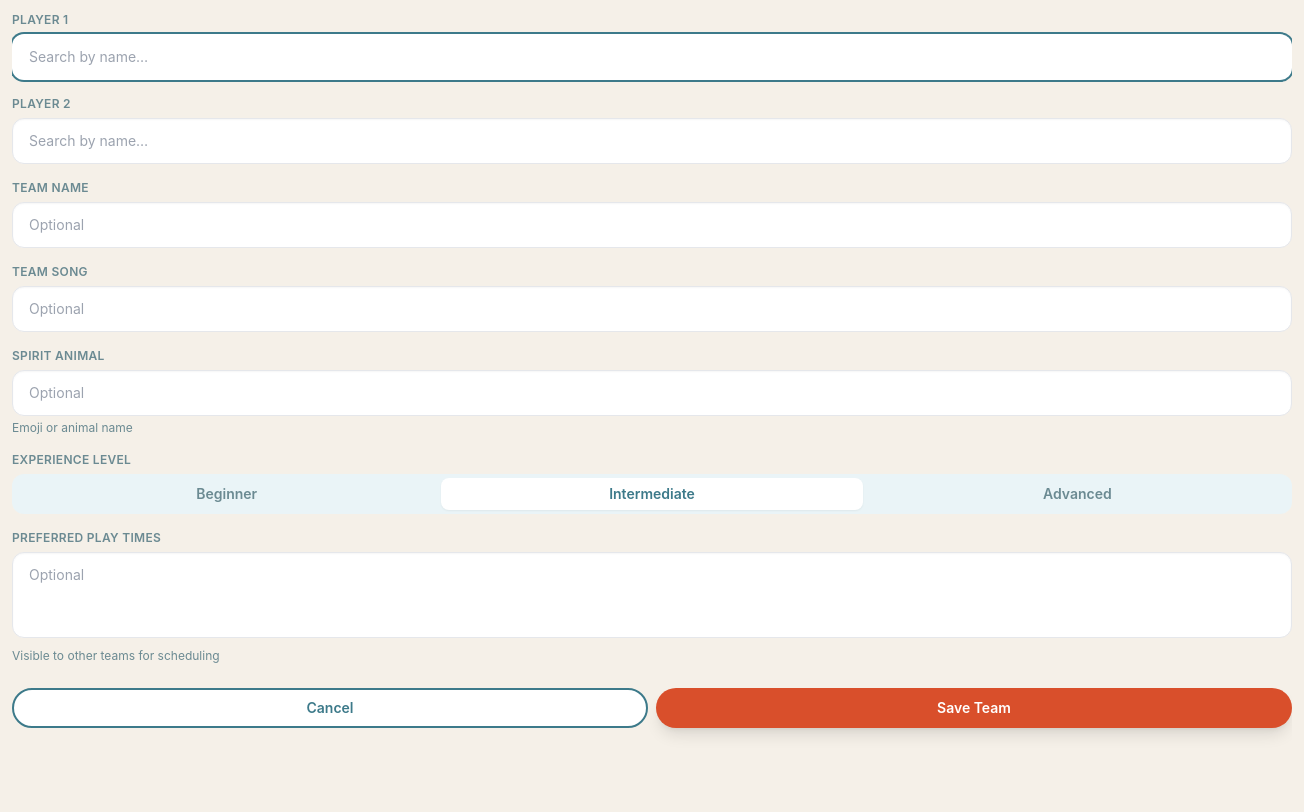
Test: TeamForm player search › returns focus to the input after choosing a player
Press ArrowDown in the field with placeholder "Search by name…" below "Player 1", box [12, 34, 1292, 80]
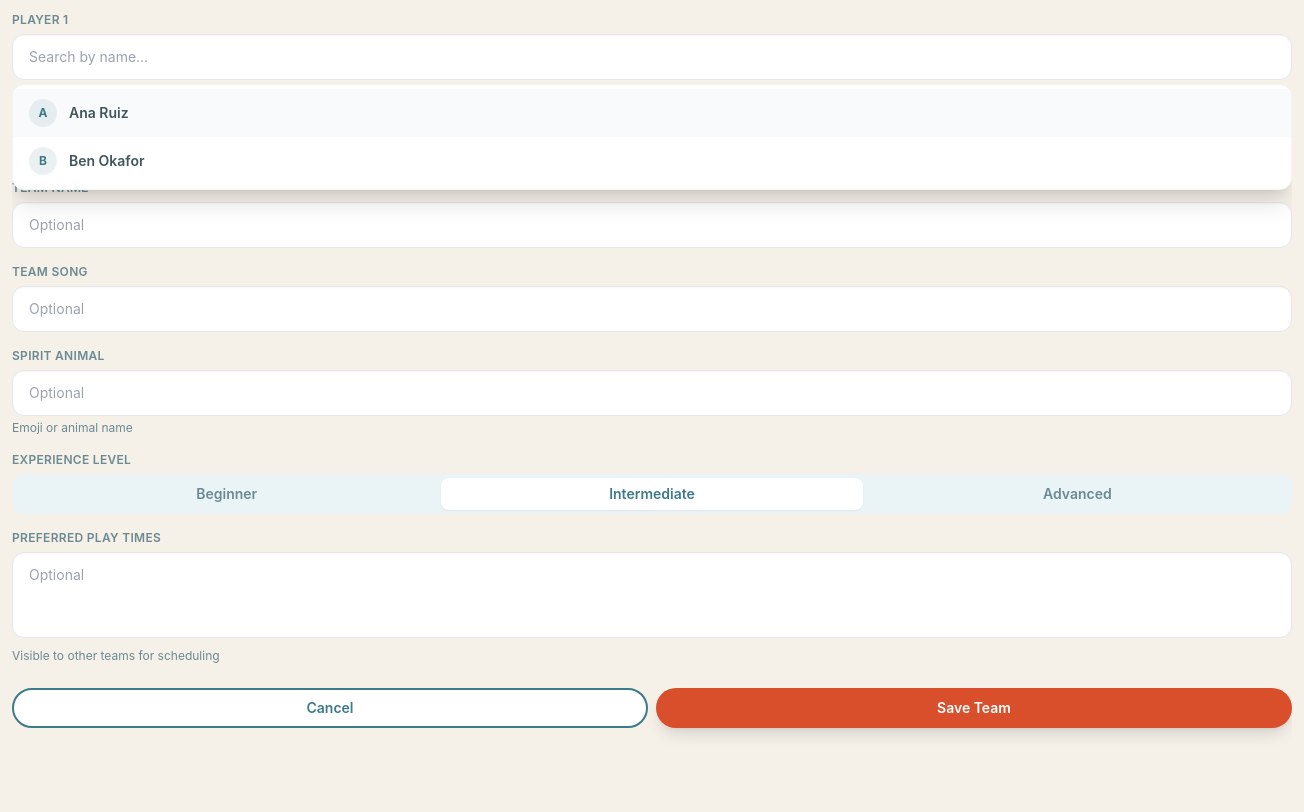
Click the menu item "A Ana Ruiz" at (99, 112), box [13, 89, 1291, 137]
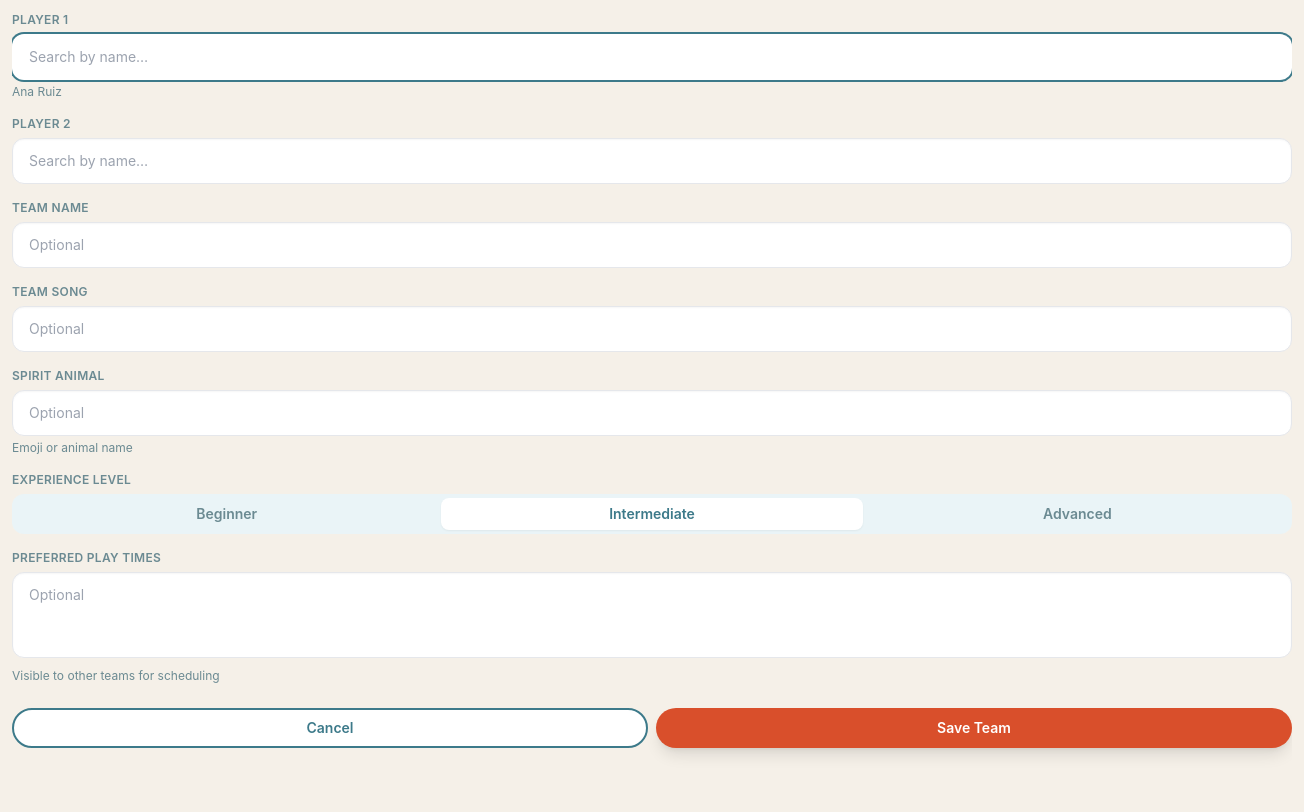
Expected: the text "Ana Ruiz" is shown, [12, 84, 62, 99]
Expected: the menu is gone
